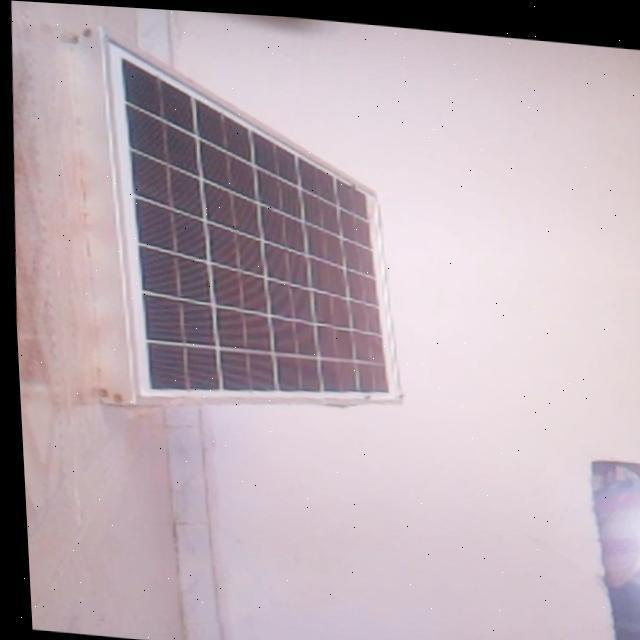Normal Solar Panel: (61, 22, 411, 423)
